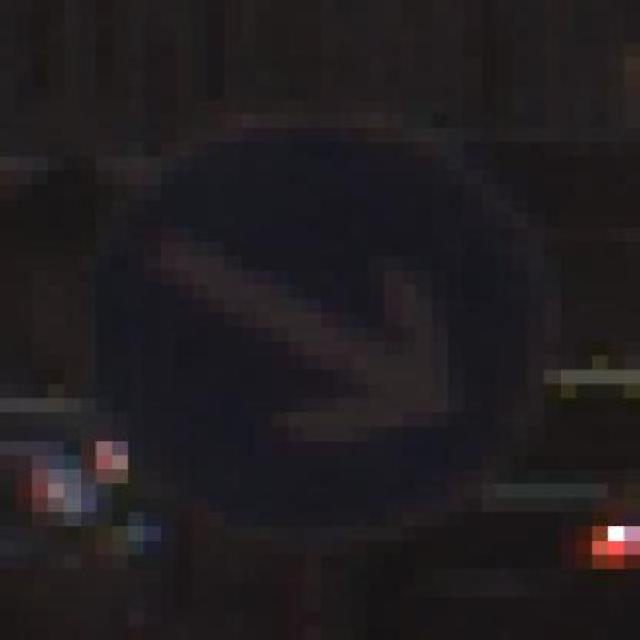Keep-Right: (64, 99, 576, 555)
